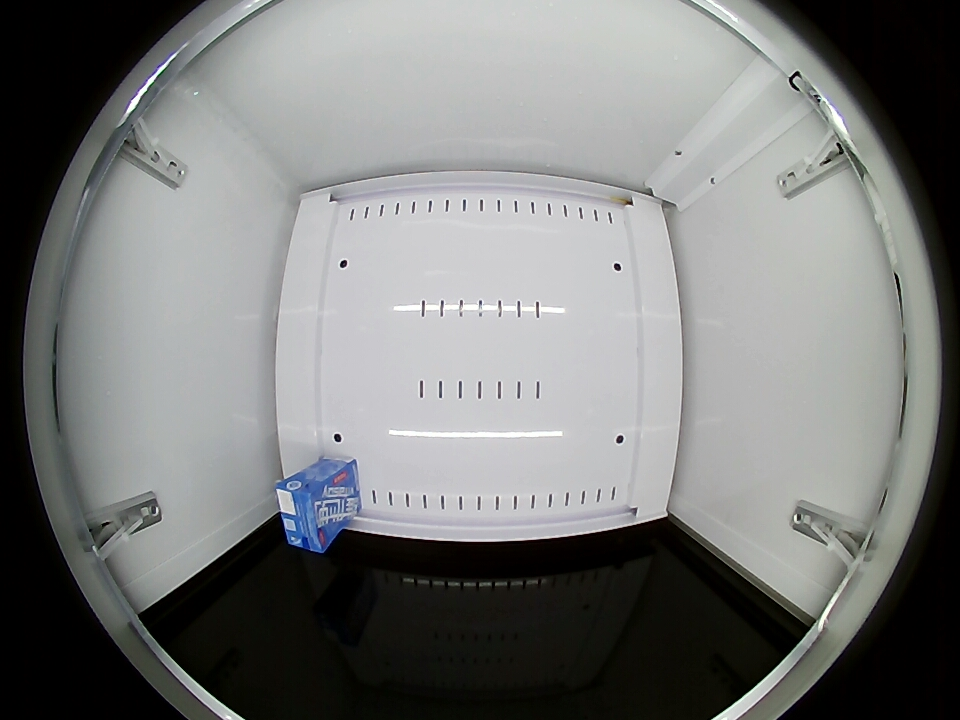weitanai: (276, 473, 336, 553)
